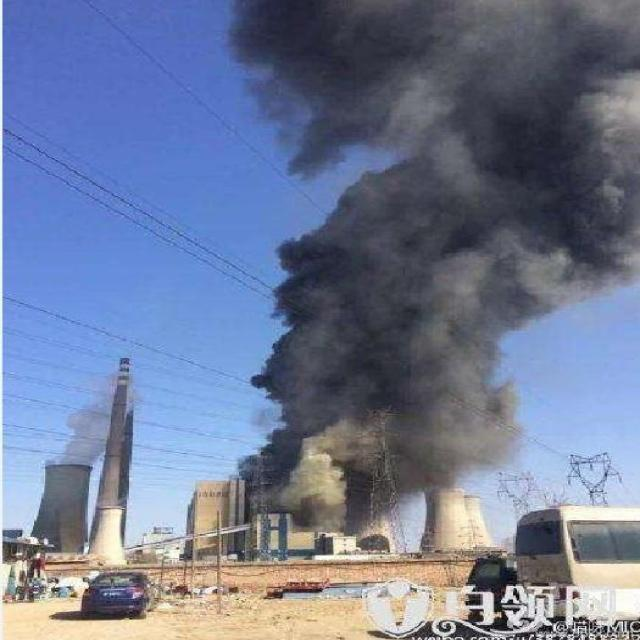Smoke: (241, 0, 640, 492), (45, 373, 136, 465)
